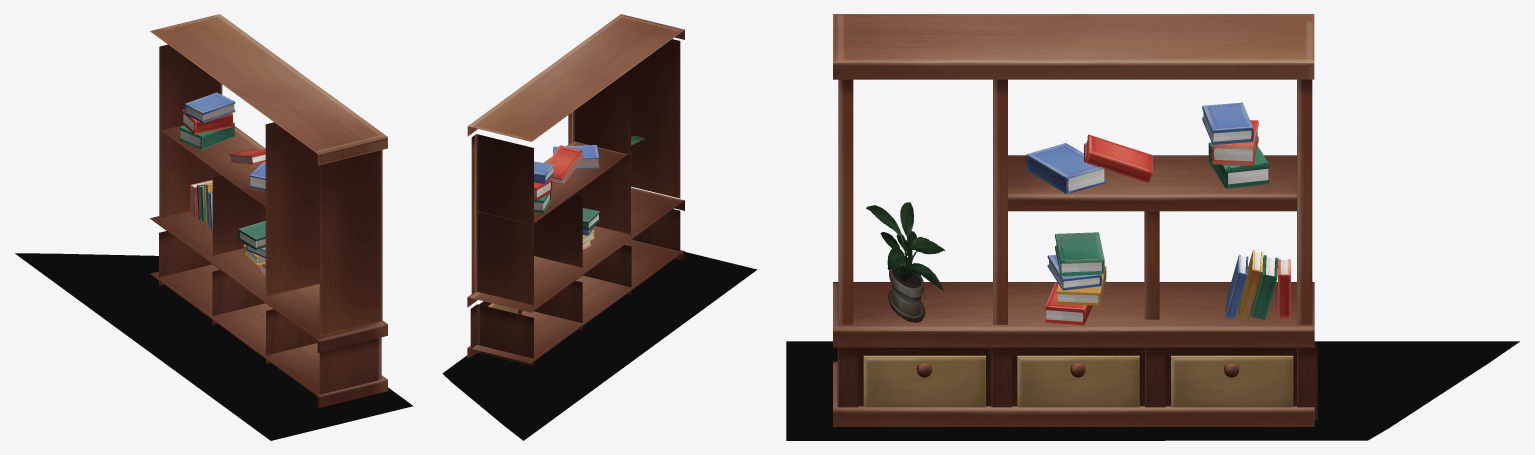
The model's file is K1_oldcabinet2.FBX.
3 views of the same model, side by side, from view 1: azimuth 30°, elevation 25°; view 2: azimuth 150°, elevation 25°; view 3: azimuth 270°, elevation 25° (orthographic). The views are drawn at different scales.
Visible parts, largest first — view 1: old_Mguizi_yy, old_Mguizi_06, old_Mguizi_00, old_Mguizi_01, old_Mguizi_02, old_Mguizi_04, old_Mguizi_07, old_Mguizi_05, old_Mguizi_03, old_Mguizi_12, old_Mguizi_14, old_Mguizi_13 (+2 smaller); view 2: old_Mguizi_yy, old_Mguizi_06, old_Mguizi_04, old_Mguizi_00, old_Mguizi_01, old_Mguizi_02, old_Mguizi_07, old_Mguizi_05, old_Mguizi_03, old_Mguizi_15, old_Mguizi_16, old_Mguizi_12 (+1 smaller); view 3: old_Mguizi_06, old_Mguizi_00, old_Mguizi_yy, old_Mguizi_03, old_Mguizi_07, old_Mguizi_21, old_Mguizi_01, old_Mguizi_04, old_Mguizi_02, old_Mguizi_16, old_Mguizi_15, old_Mguizi_17 (+11 smaller).
Boxes of the visible parts, left/top/right/bottom form: old_Mguizi_yy: left=15, top=253, right=413, bottom=440; old_Mguizi_06: left=150, top=212, right=387, bottom=394; old_Mguizi_00: left=150, top=14, right=387, bottom=165; old_Mguizi_01: left=319, top=150, right=382, bottom=336; old_Mguizi_02: left=265, top=122, right=319, bottom=296; old_Mguizi_04: left=159, top=44, right=222, bottom=219; old_Mguizi_07: left=150, top=264, right=387, bottom=408; old_Mguizi_05: left=212, top=175, right=265, bottom=255; old_Mguizi_03: left=161, top=125, right=265, bottom=216; old_Mguizi_12: left=184, top=92, right=235, bottom=122; old_Mguizi_14: left=179, top=122, right=234, bottom=149; old_Mguizi_13: left=182, top=109, right=232, bottom=134; old_Mguizi_yy: left=442, top=252, right=757, bottom=440; old_Mguizi_06: left=467, top=187, right=684, bottom=366; old_Mguizi_04: left=471, top=134, right=533, bottom=305; old_Mguizi_00: left=467, top=14, right=684, bottom=141; old_Mguizi_01: left=623, top=39, right=680, bottom=198; old_Mguizi_02: left=568, top=75, right=630, bottom=234; old_Mguizi_07: left=467, top=239, right=684, bottom=363; old_Mguizi_05: left=534, top=194, right=582, bottom=267; old_Mguizi_03: left=477, top=141, right=628, bottom=224; old_Mguizi_15: left=547, top=145, right=583, bottom=184; old_Mguizi_16: left=553, top=145, right=599, bottom=169; old_Mguizi_12: left=534, top=161, right=553, bottom=183; old_Mguizi_06: left=833, top=282, right=1317, bottom=419; old_Mguizi_00: left=833, top=14, right=1314, bottom=79; old_Mguizi_yy: left=786, top=341, right=1519, bottom=440; old_Mguizi_03: left=1008, top=155, right=1296, bottom=211; old_Mguizi_07: left=833, top=361, right=1314, bottom=426; old_Mguizi_21: left=866, top=202, right=944, bottom=322; old_Mguizi_01: left=838, top=79, right=853, bottom=324; old_Mguizi_04: left=1297, top=79, right=1312, bottom=324; old_Mguizi_02: left=993, top=79, right=1007, bottom=324; old_Mguizi_16: left=1026, top=143, right=1105, bottom=194; old_Mguizi_15: left=1084, top=134, right=1152, bottom=182; old_Mguizi_17: left=1055, top=232, right=1104, bottom=275.
Bounding box in the file's own units: 50.63 × 84.44 × 151.
